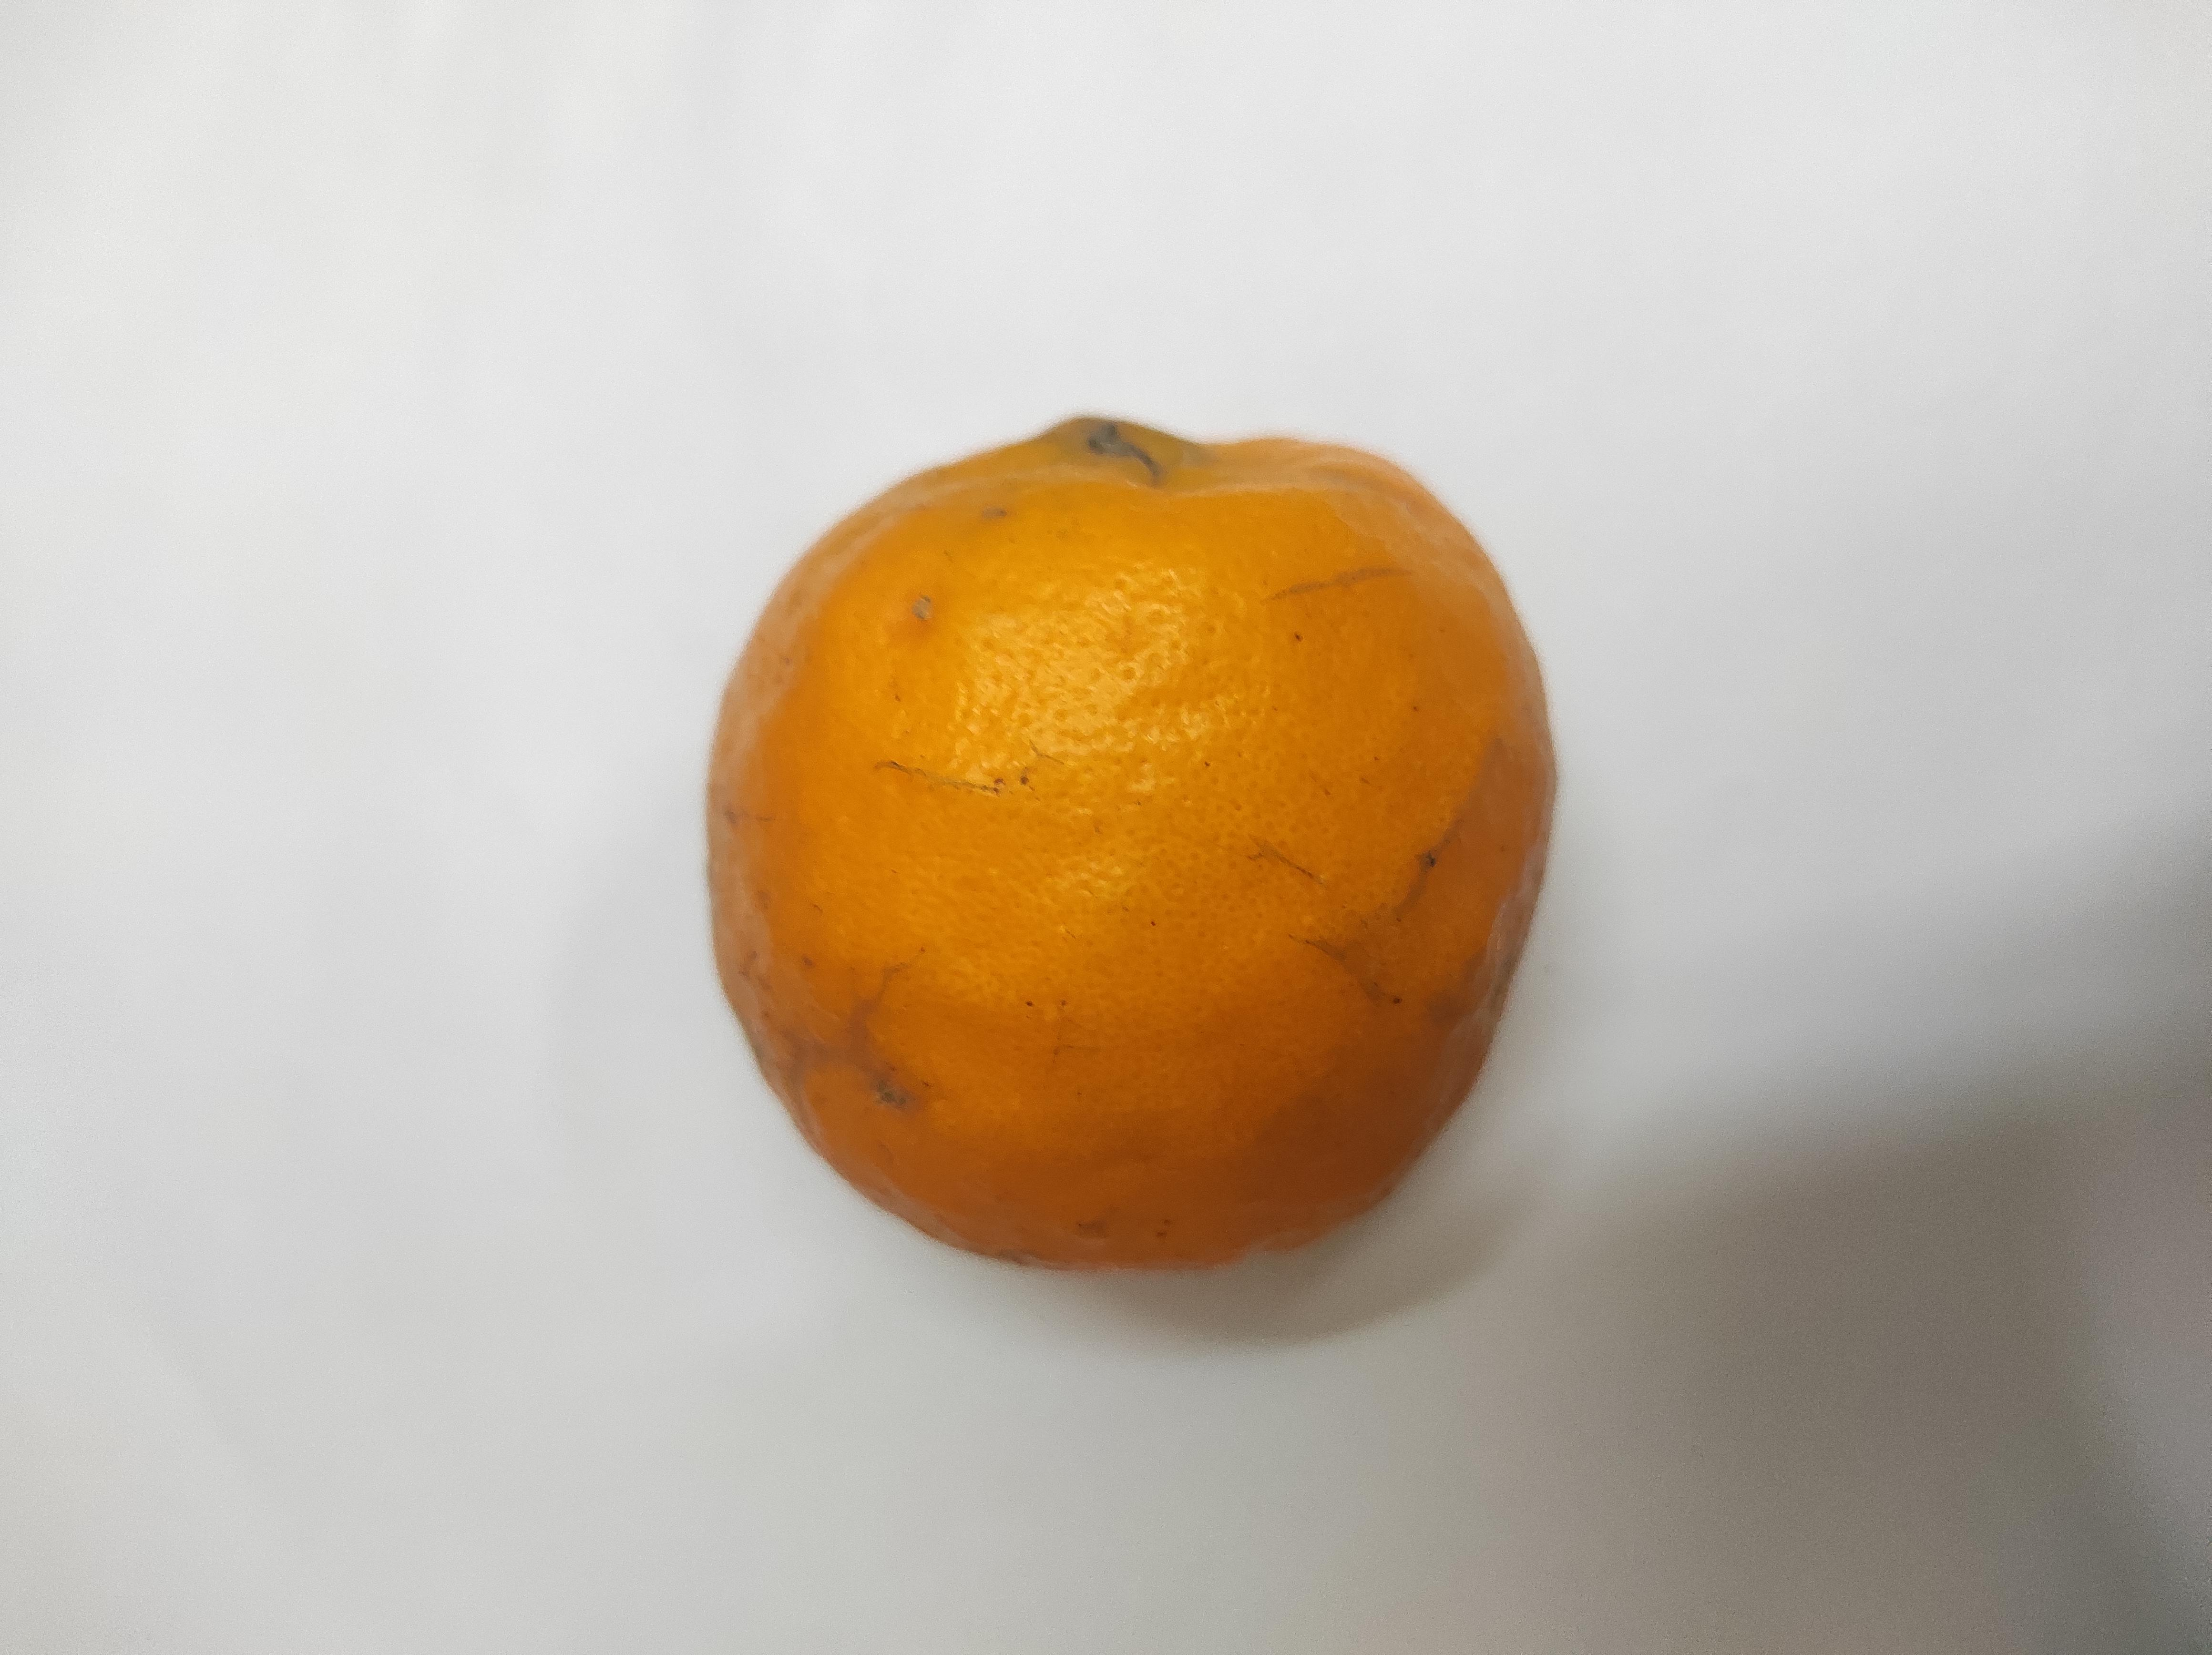Ripe: (503, 542, 1662, 1170)
